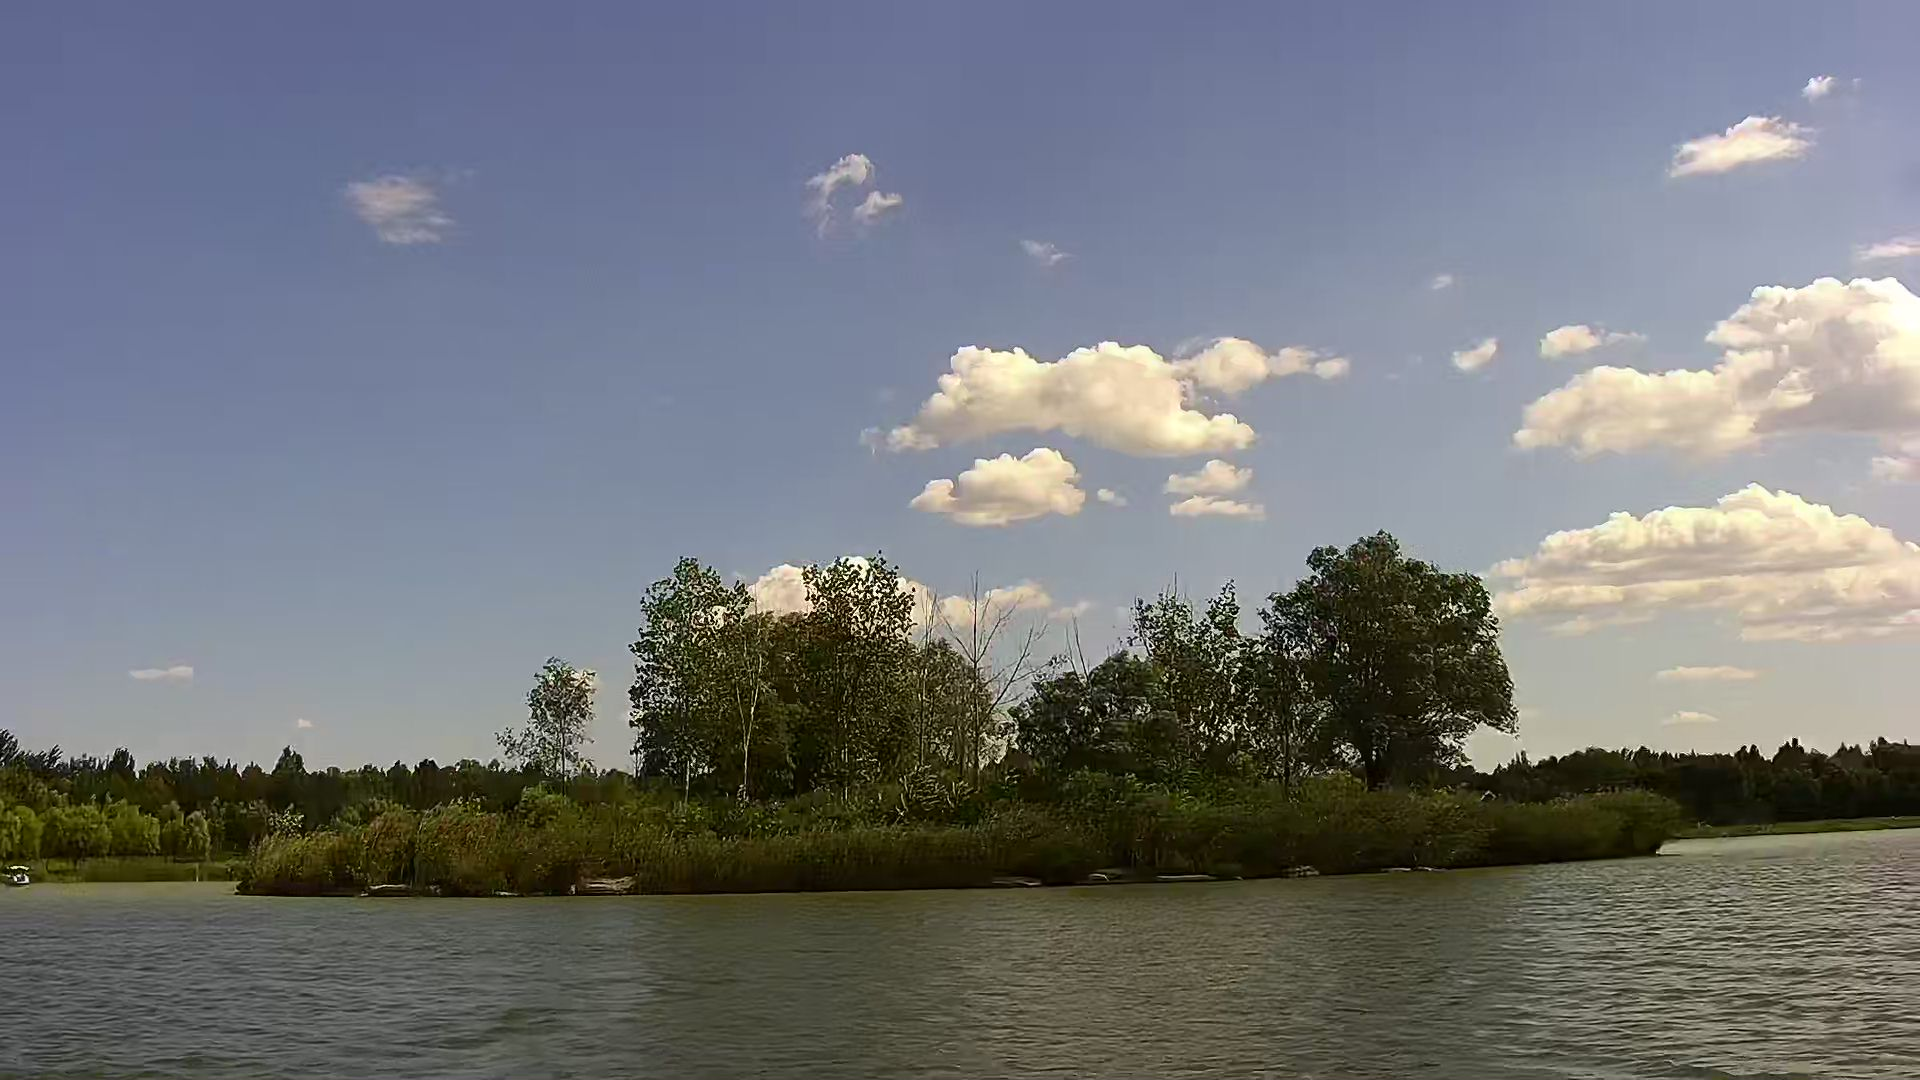rock: (578, 873, 632, 889)
